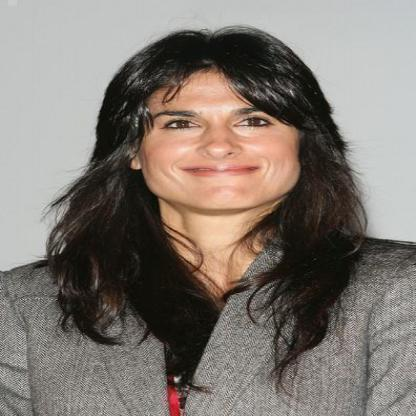long-hair: (37, 213, 388, 254)
